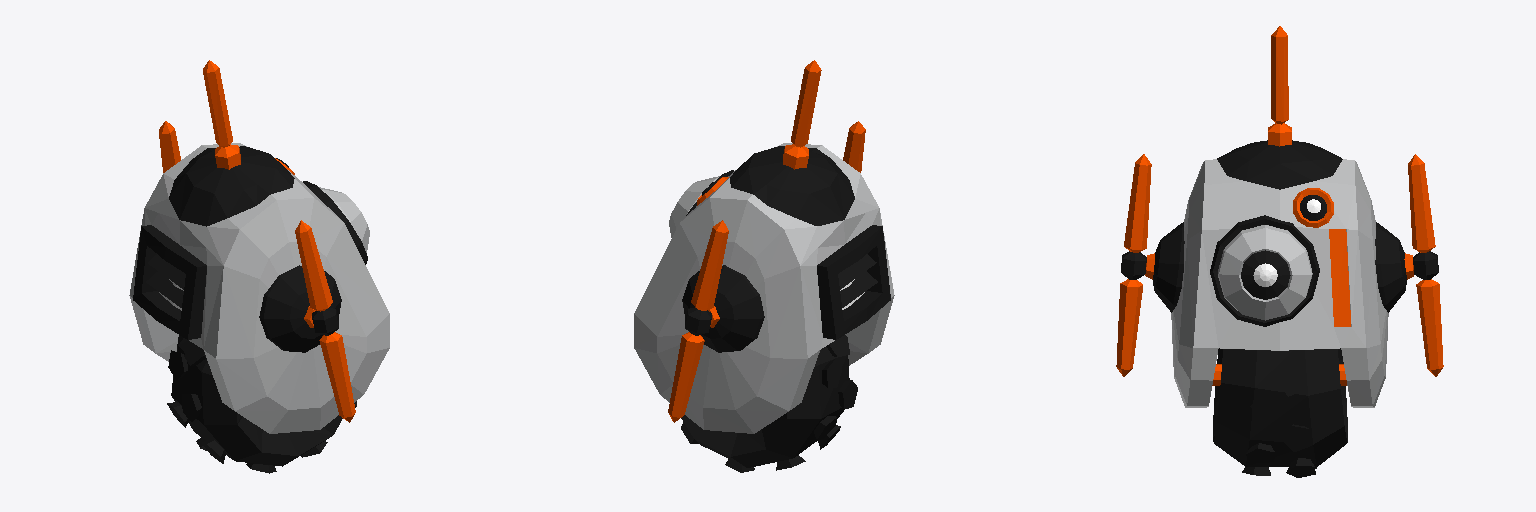
File: beemer.obj
3 views of the same model, side by side, from view 1: azimuth 30°, elevation 25°; view 2: azimuth 150°, elevation 25°; view 3: azimuth 270°, elevation 25° (orthographic).
Visible parts, largest first — view 1: default; view 2: default; view 3: default.
Boxes of the visible parts, x1,y1,x2,y2 form: default: [129, 60, 389, 473]; default: [634, 60, 894, 472]; default: [1116, 26, 1443, 477].
Size of the model in its own units: 26.45 by 52.78 by 37.67.